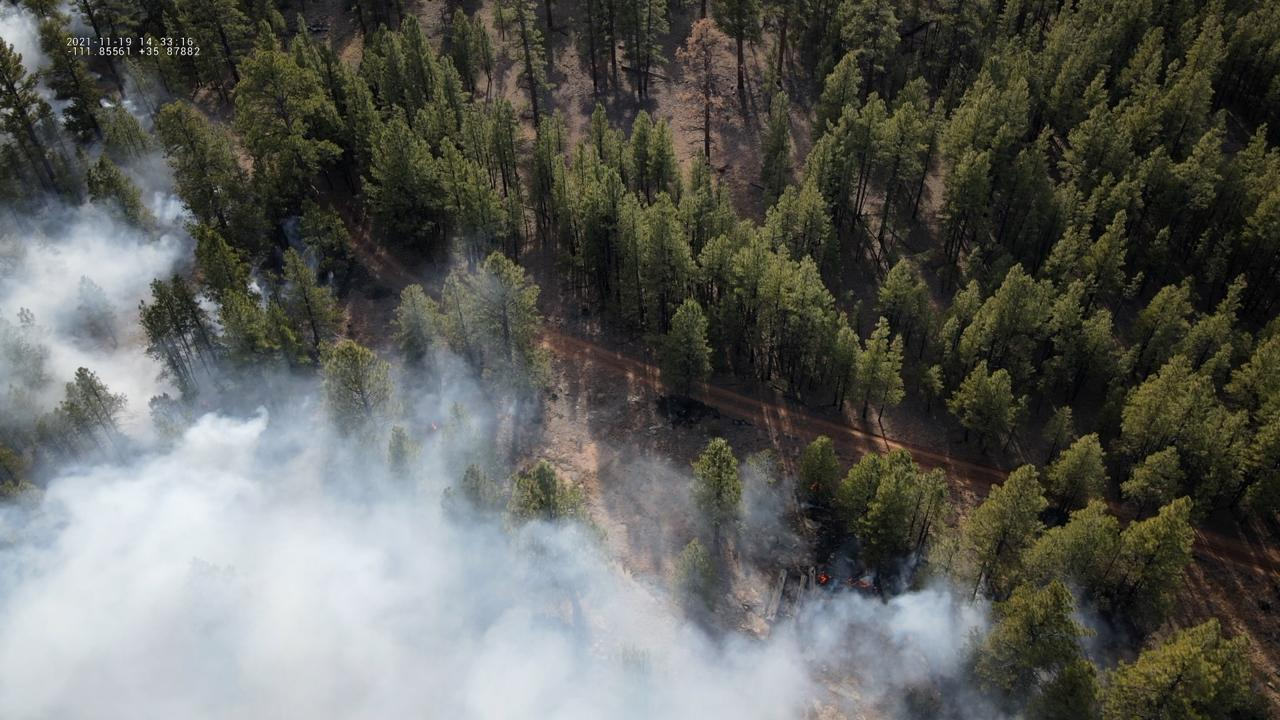fire: (848, 577, 870, 590), (815, 574, 829, 586)
smoke: (0, 0, 1133, 720)
